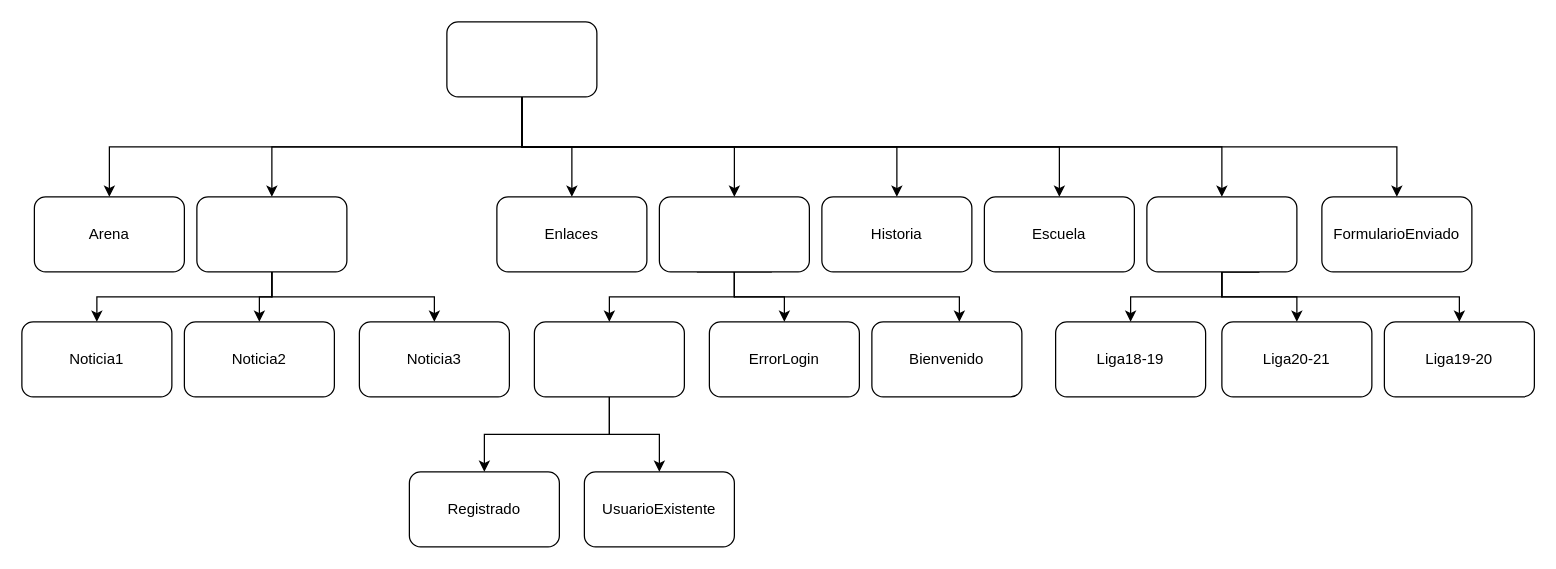
Image size: 1556x569. Some labels were removed from this diagram. The box of each missing label's shape, as (x1, y1, x2, y2) in pixels:
Blog: (196, 196, 347, 272)
Index: (446, 21, 597, 97)
Liga*: (1146, 196, 1297, 272)
Login: (658, 196, 809, 272)
Registro: (533, 321, 684, 397)
